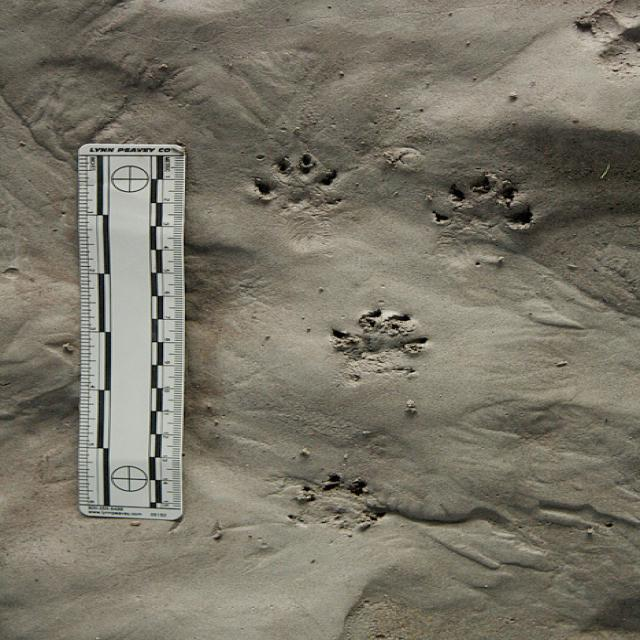mustelid: (437, 174, 536, 262), (332, 311, 432, 385), (252, 152, 346, 222), (297, 468, 385, 538)
